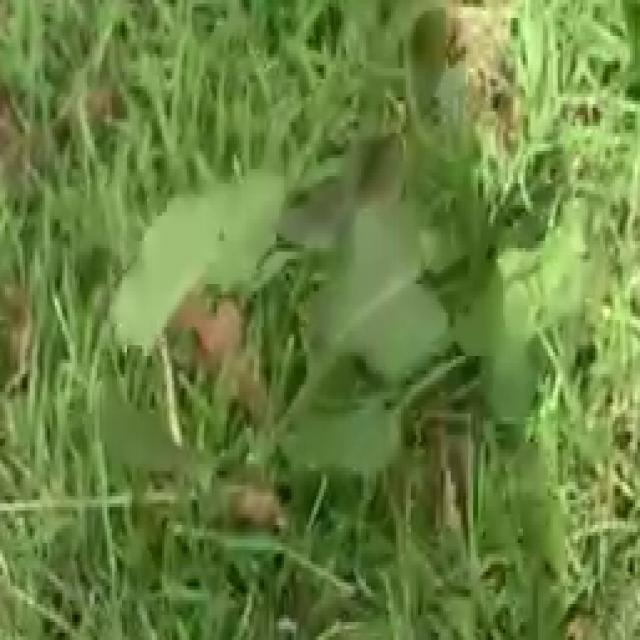organic waste: (70, 126, 565, 622)
